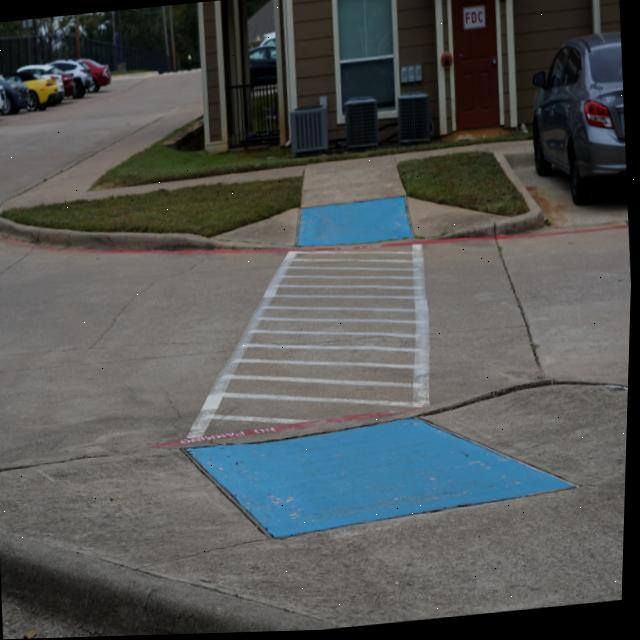Automobile: (533, 35, 627, 208), (0, 59, 111, 114), (250, 34, 276, 83)
Road: (0, 145, 633, 468)
Sidewalk: (0, 385, 630, 637), (0, 101, 532, 213), (220, 158, 507, 248)
